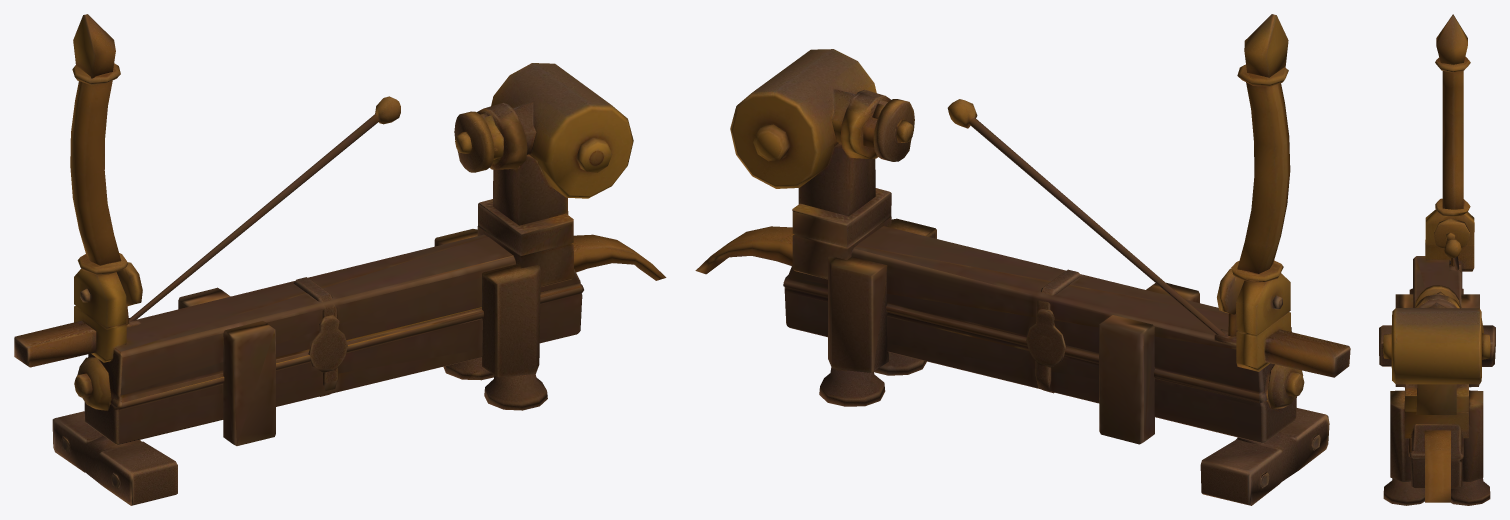
The model's file is gun-mountains.glb.
3 views of the same model, side by side, from view 1: azimuth 30°, elevation 25°; view 2: azimuth 150°, elevation 25°; view 3: azimuth 270°, elevation 25° (orthographic). The views are drawn at different scales.
Size of the model in its own units: 0.96 by 0.667 by 0.2094.
1 material, 1 textured.
